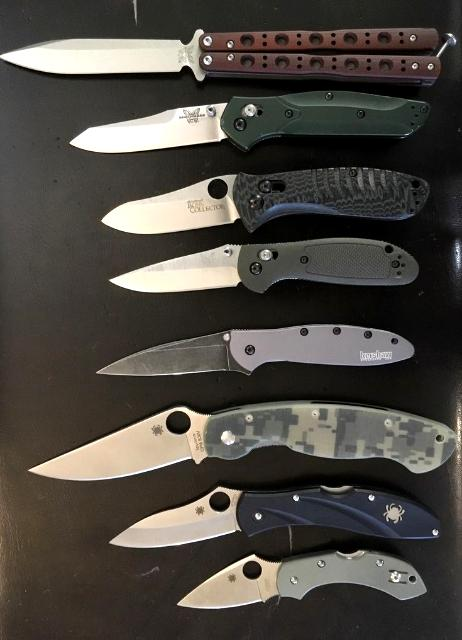pocket-knife: (19, 392, 460, 486), (0, 23, 462, 89), (65, 84, 438, 158), (99, 161, 436, 237), (101, 482, 451, 552), (90, 316, 424, 386), (108, 232, 428, 300), (172, 550, 430, 620)
